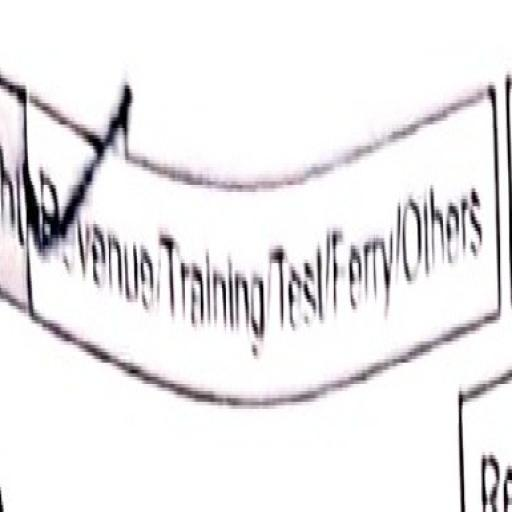check: (8, 24, 159, 396)
